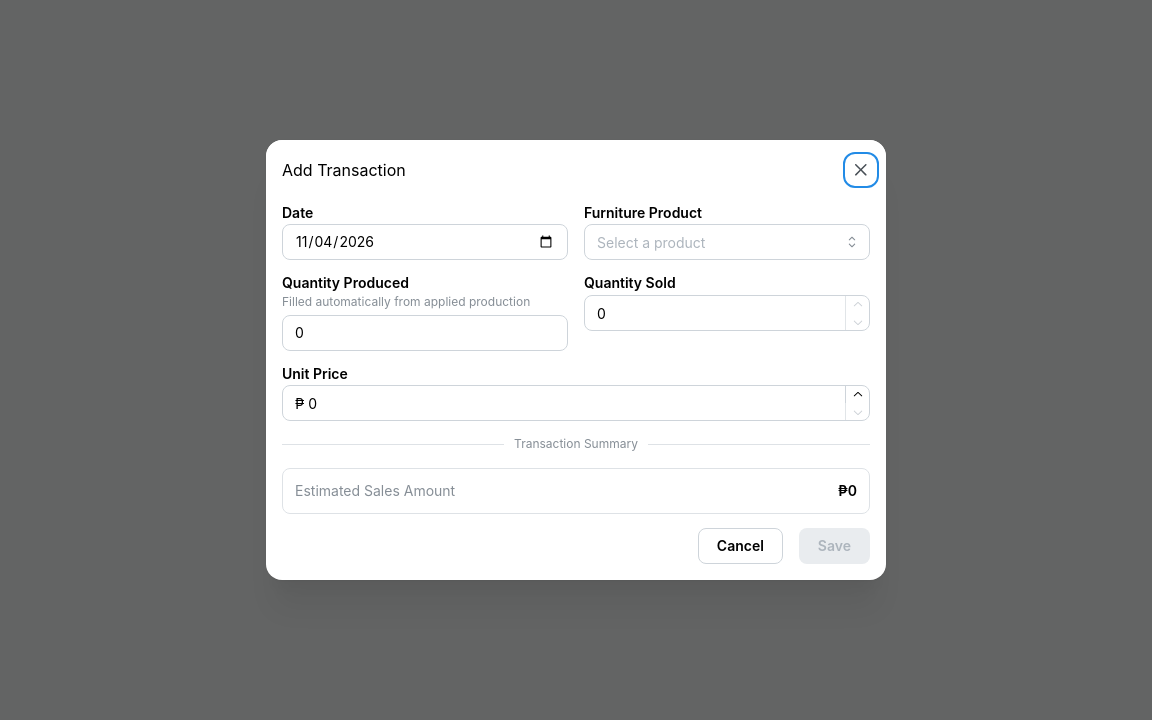
Scenario: AddTransactionModal › blocks a quantity sold above available stock
Step 1. Click the dropdown labelled "Furniture Product" → x=727, y=242, box [584, 224, 870, 260]
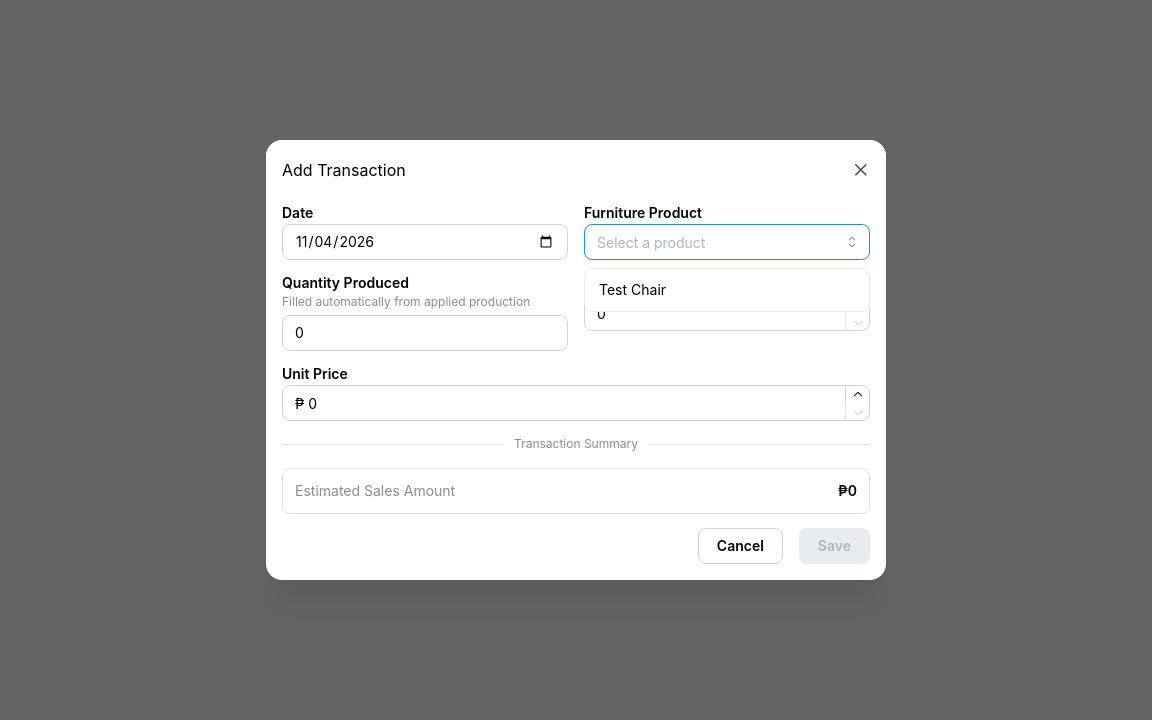
Step 2. Click the option "Test Chair" → x=632, y=290, box [599, 282, 666, 298]
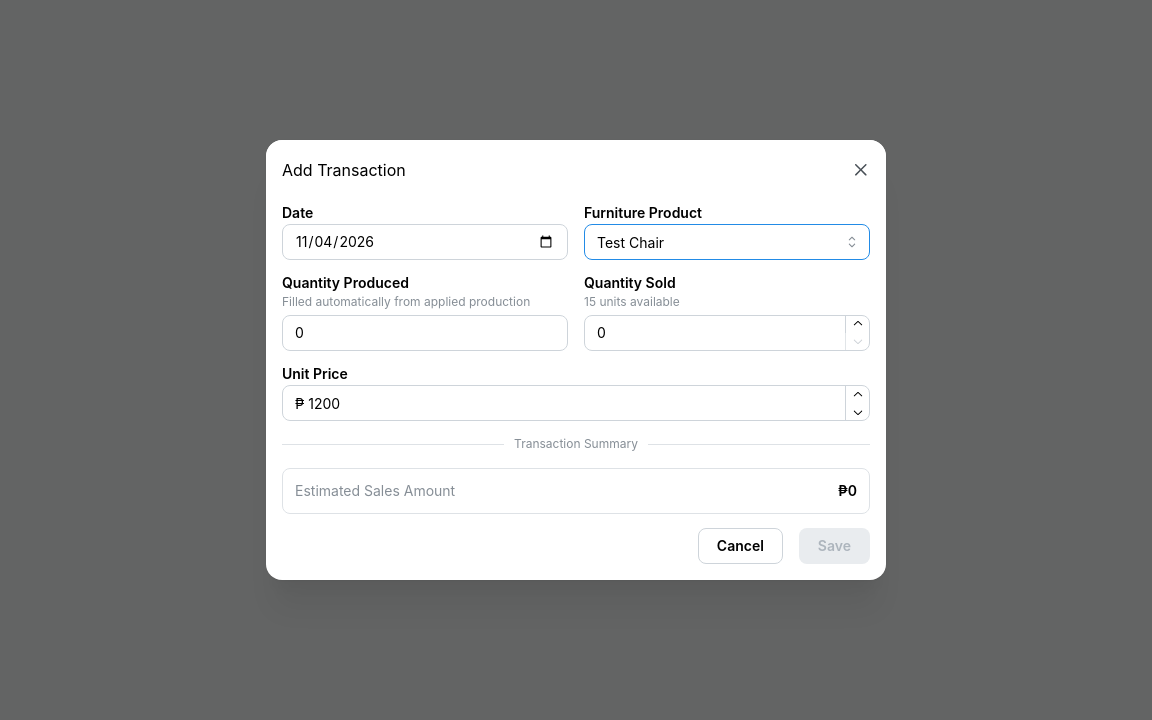
Step 3. Replace the text in the field labelled "Quantity Sold" with "16" → x=727, y=333, box [584, 315, 870, 351]
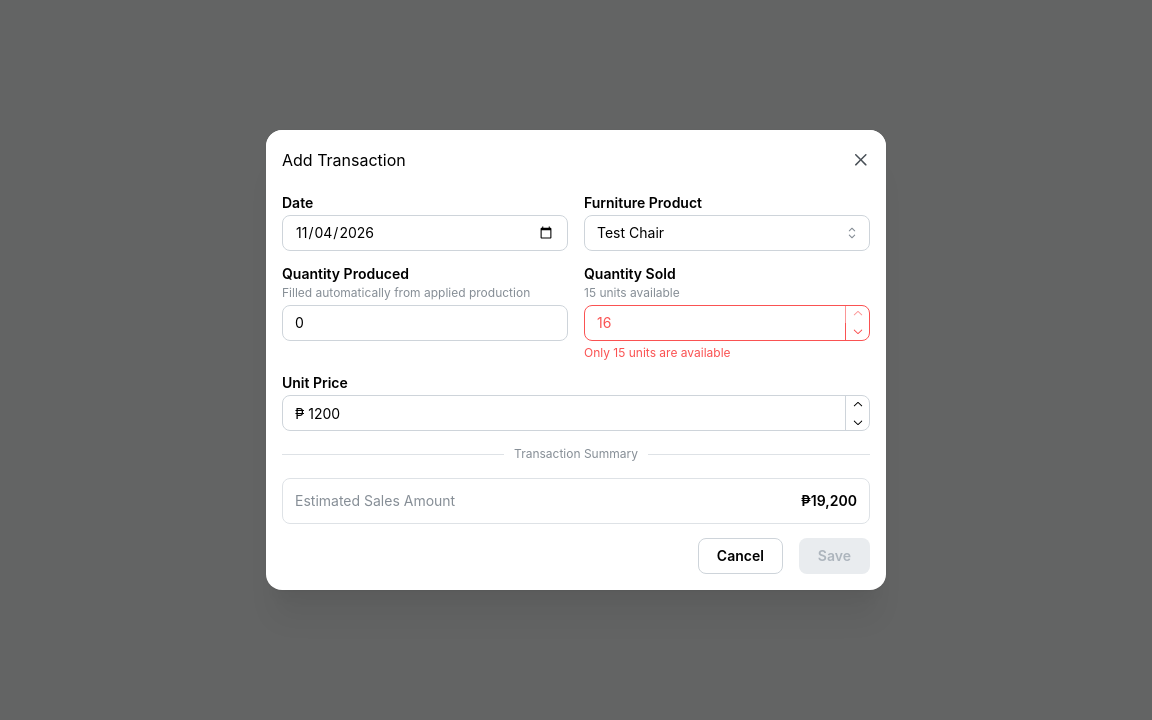
Check: the button "Save" is disabled, box [799, 538, 870, 574]
Check: the text "Only 15 units are available" is shown, box [584, 345, 731, 360]
